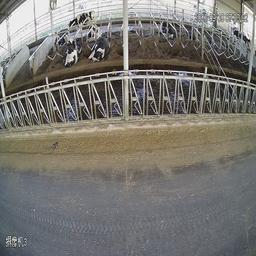cow: (59, 12, 88, 37), (87, 34, 110, 62), (62, 37, 80, 68), (158, 17, 175, 41), (86, 22, 101, 43)
